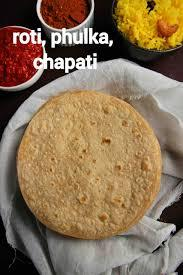roti phulka: (32, 99, 153, 229)
